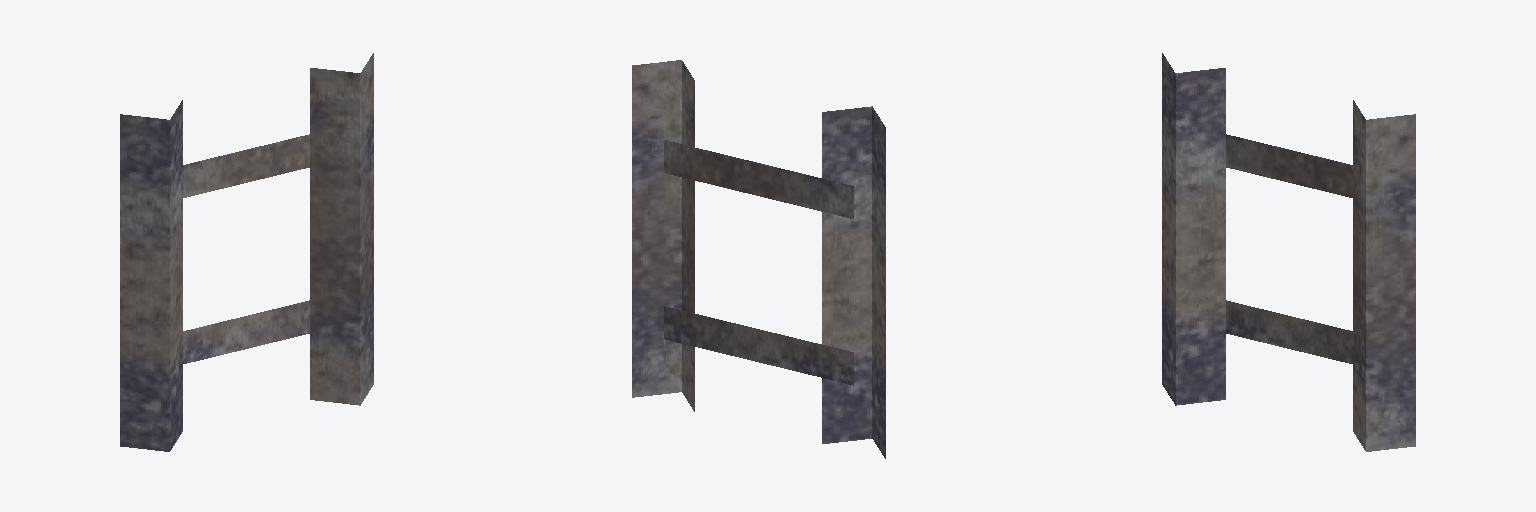
3 renders of one model, left to right at view 1: azimuth 30°, elevation 25°; view 2: azimuth 150°, elevation 25°; view 3: azimuth 330°, elevation 25°, orthographic.
Parts seen in each view (by area): view 1: Tube; view 2: Tube; view 3: Tube.
Part boxes in pixels (x1,y1,x2,y2): Tube: (120, 53, 373, 451); Tube: (632, 60, 885, 458); Tube: (1162, 53, 1415, 451).
Size of the model in its own units: 0.8 by 1 by 0.1.
1 materials, 1 textured.